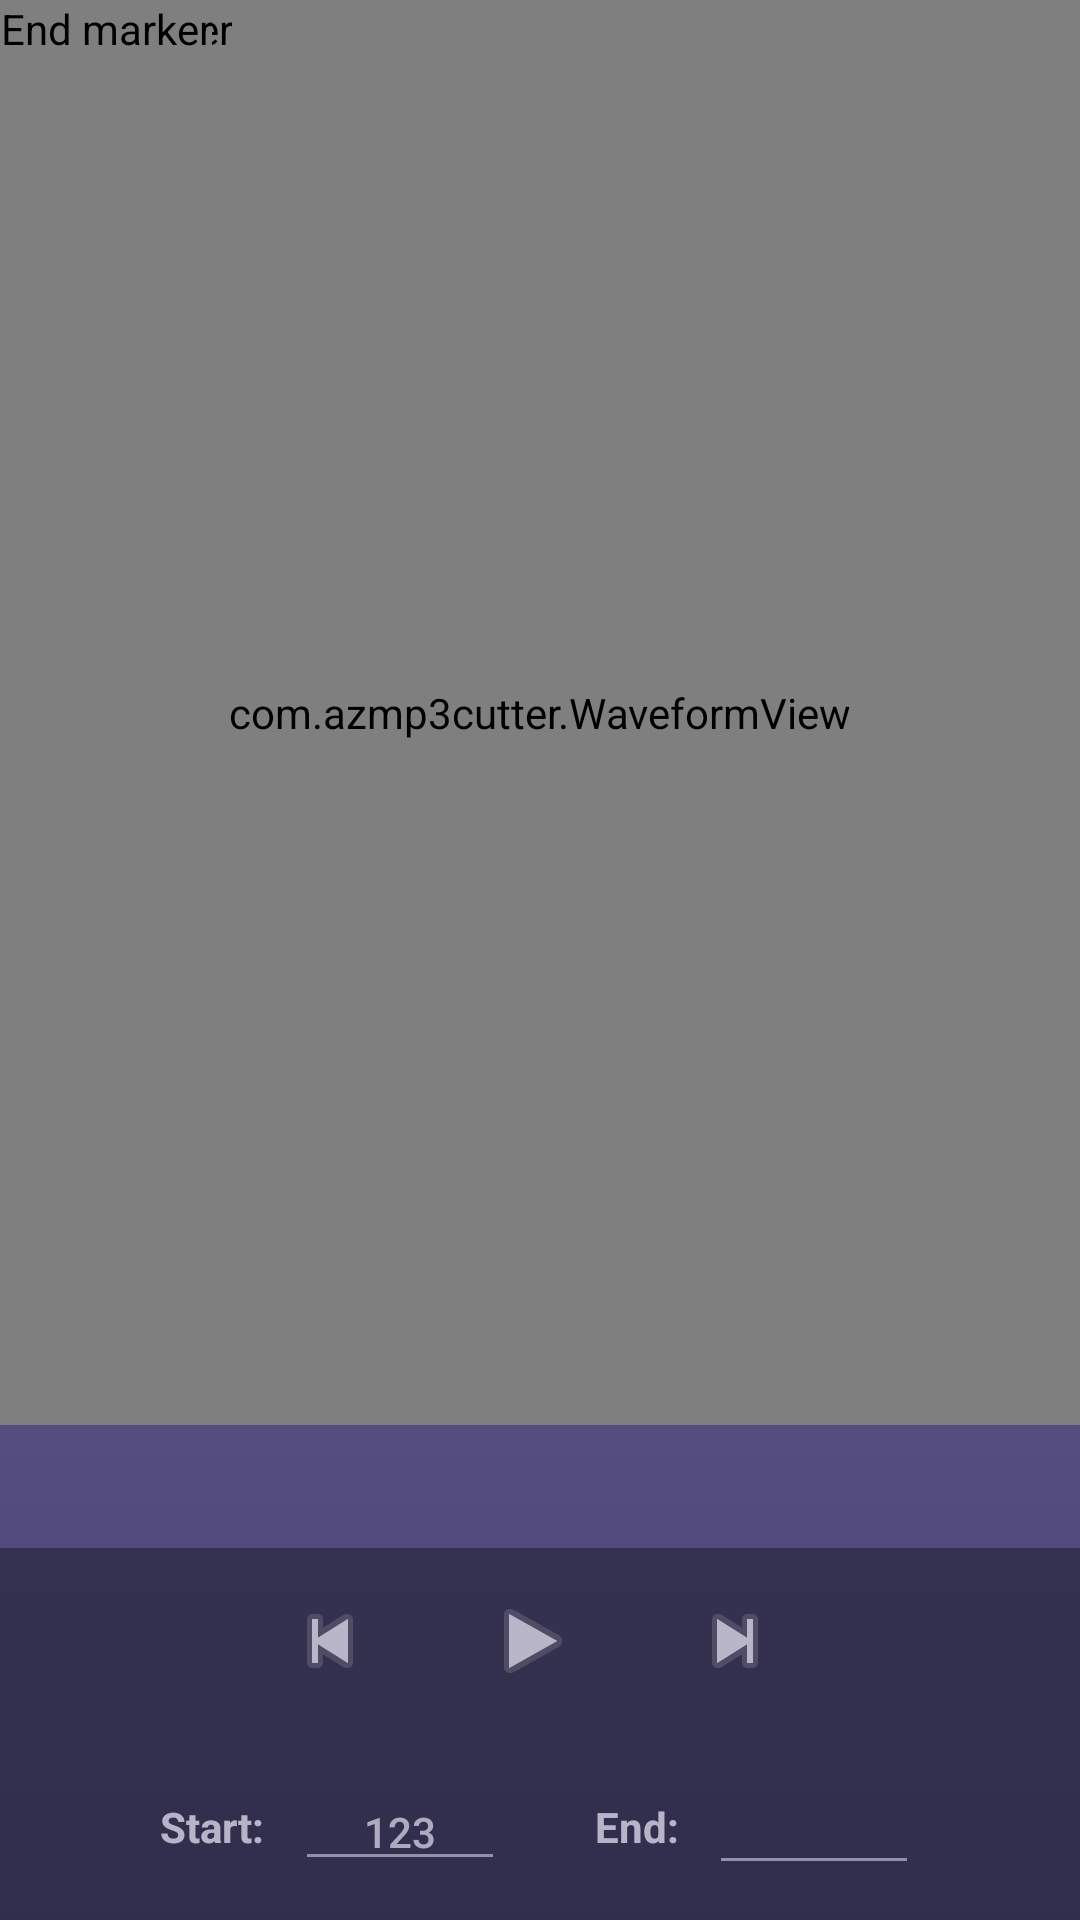

Icon click points for this 1080 × 1920 phone screenshot, format [x,y]:
Fast forward: [735,1641]
Play: [533,1641]
Rewind: [330,1641]
